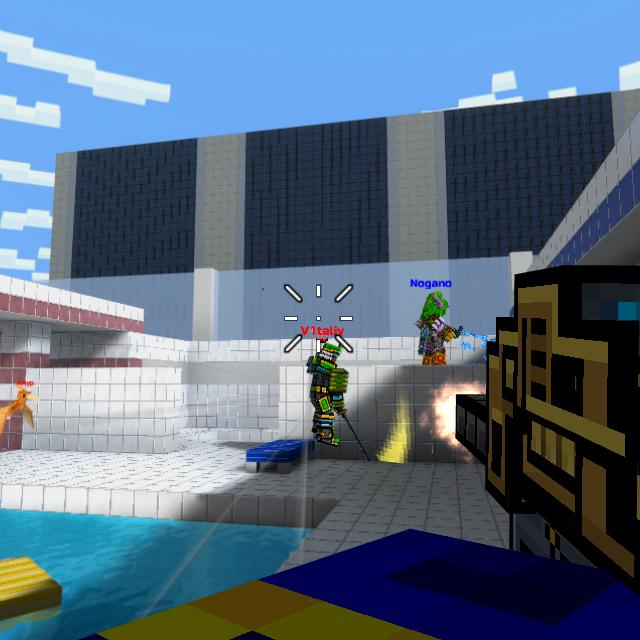Enemy: (306, 343, 350, 447)
